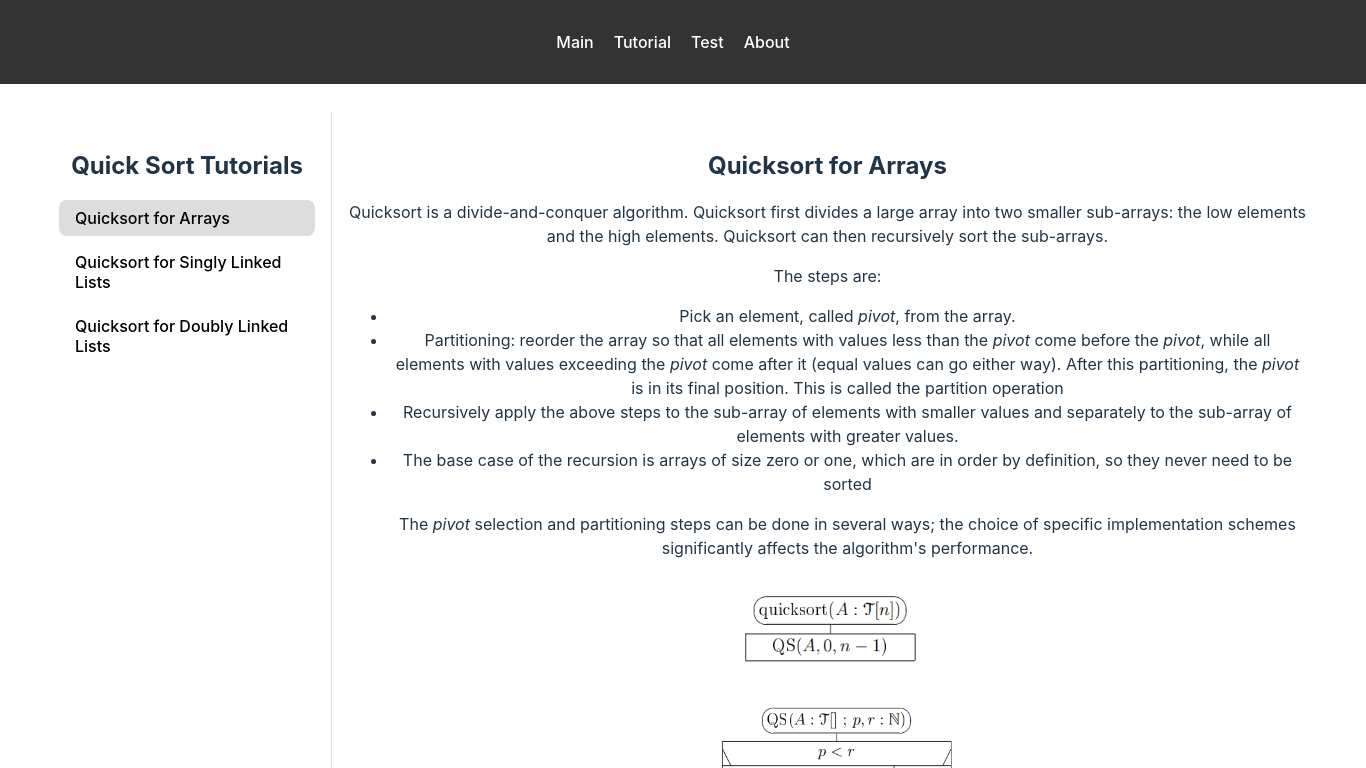
Scenario: App › renders the Test component for the "/test" route
The width and height of the screenshot is (1366, 768).
Click the link "Test": (707, 42) x1=691 y1=32 x2=724 y2=52
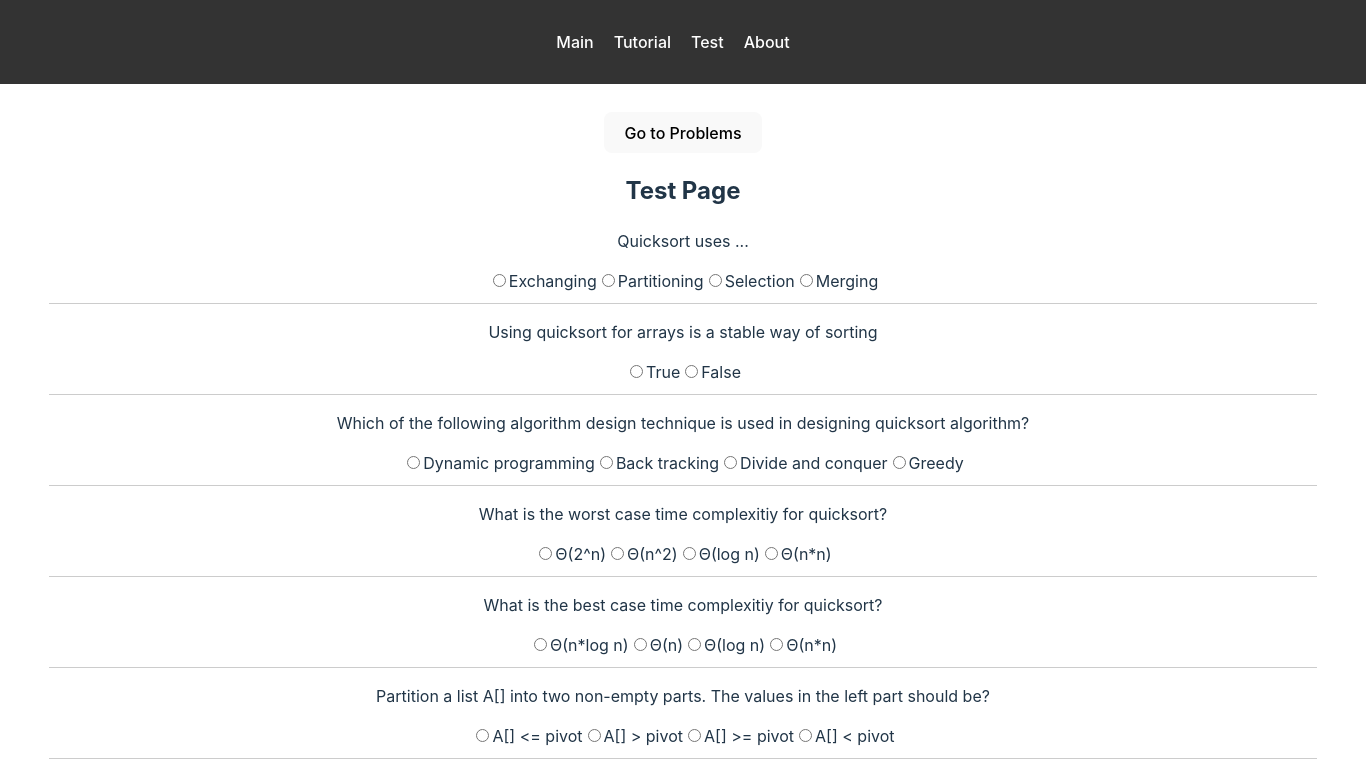
Result: the heading "Test Page" is shown at x1=626 y1=176 x2=740 y2=205
